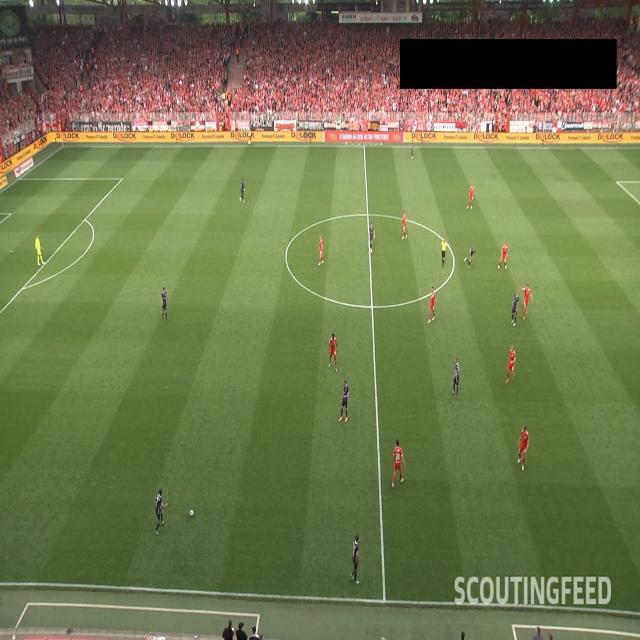ball: (189, 508, 194, 518)
